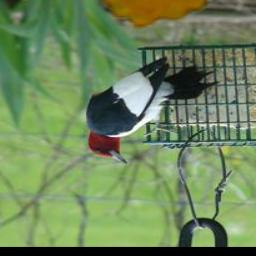Woodpecker: (87, 57, 221, 165)
